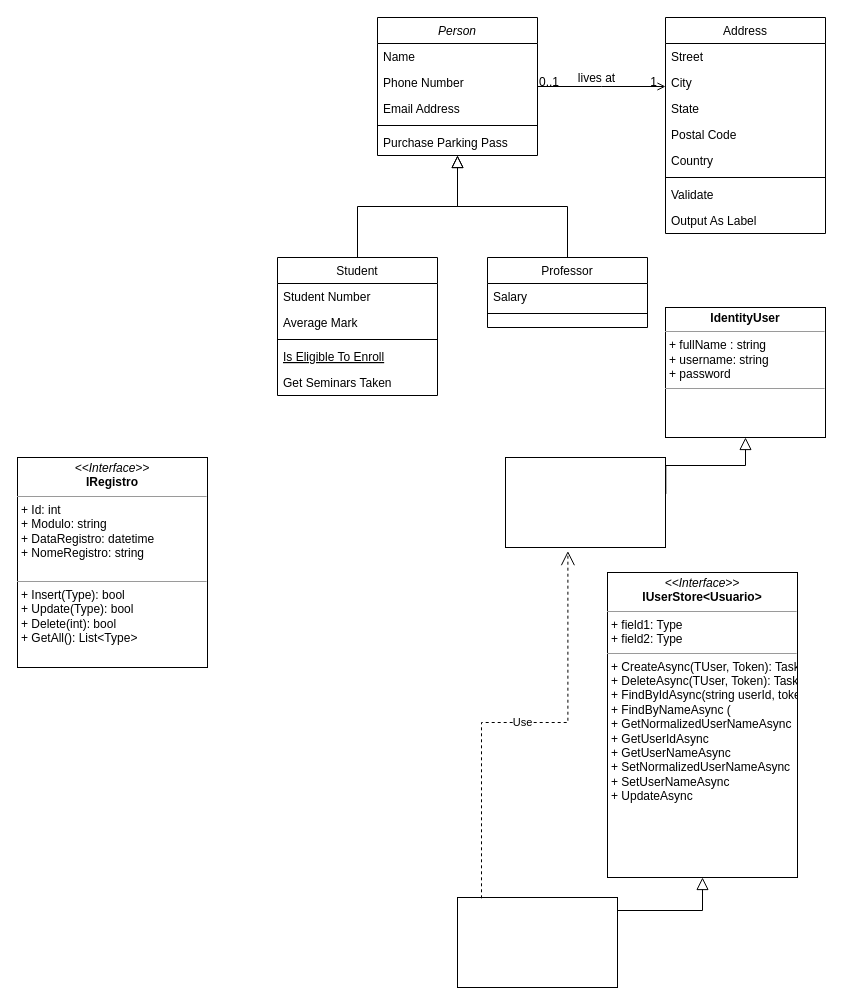
Image size: 857x1005. Some labels were removed from this diagram. Each missing label, with the centre of its shape:
UsuarioDAL + +: the point at 537,942
Usuário + field: Type + method(): Type: the point at 585,502
